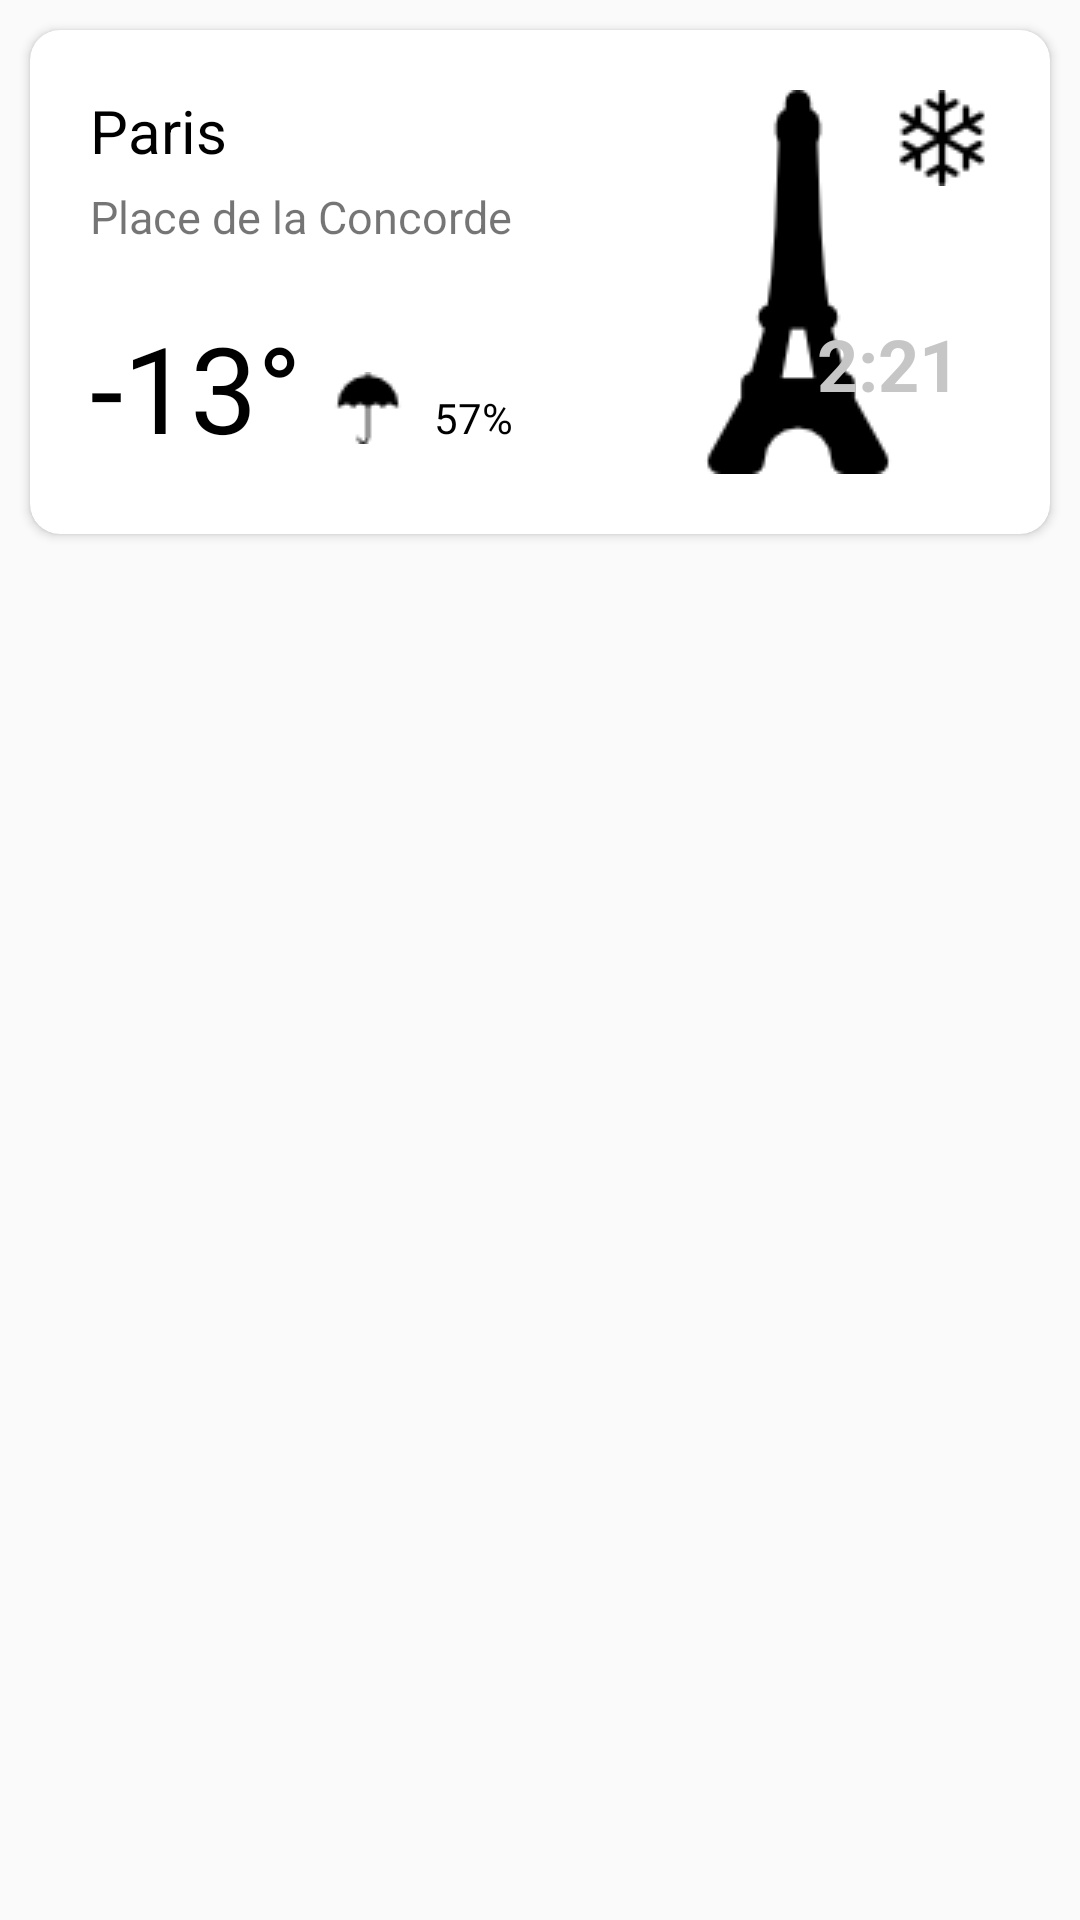

Where icons sit on this 1080×1920 app screen, as (x1,y1,x2,y2):
umbrellablack: (337,372,399,444)
